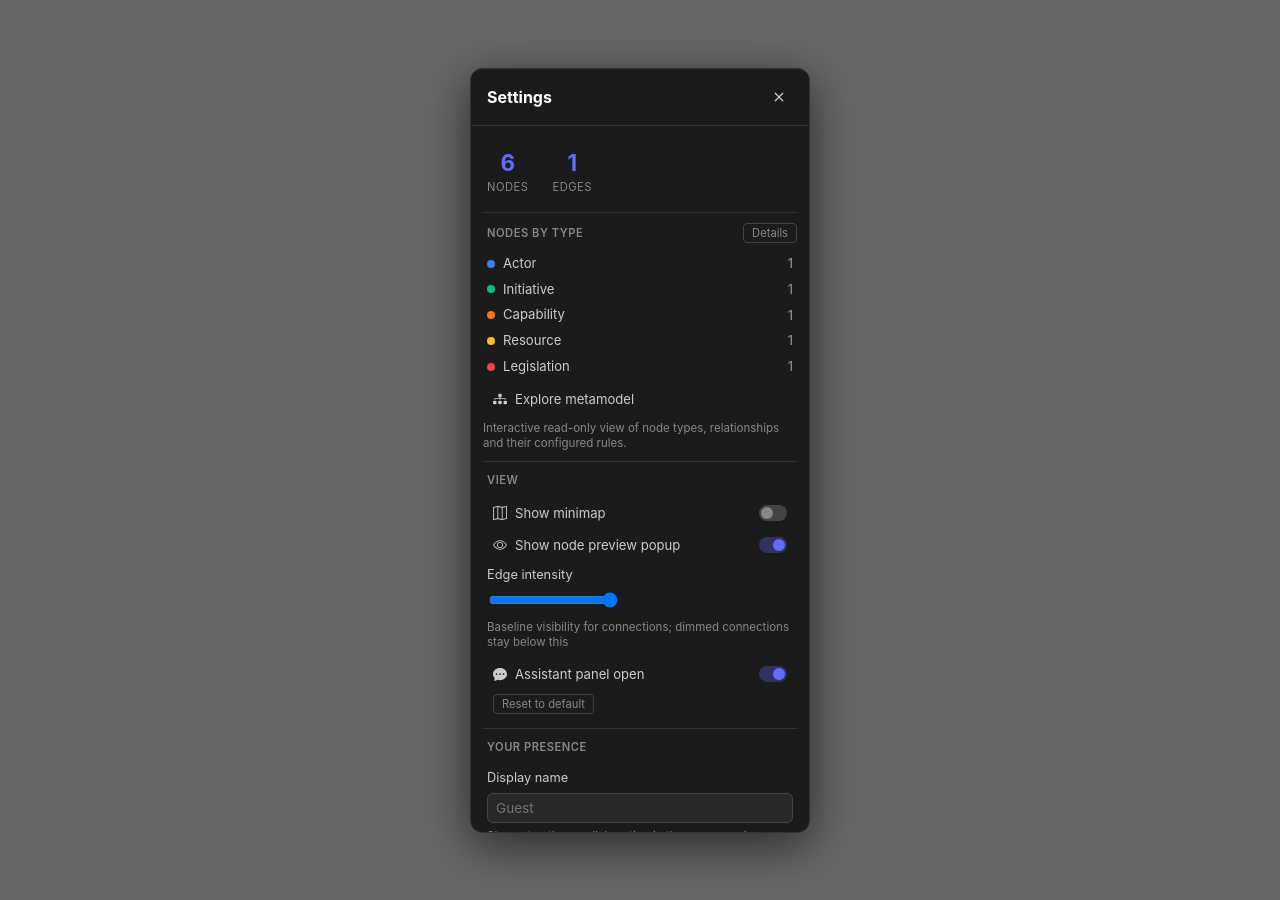
it: SettingsDialog › shows relationship applicability rules in the metamodel details dialog
This screenshot has width=1280, height=900.
What coordinates should you click on to do the following:
click the button "Details"
I would click on:
 (770, 233)
Its box is [743,223,797,243].
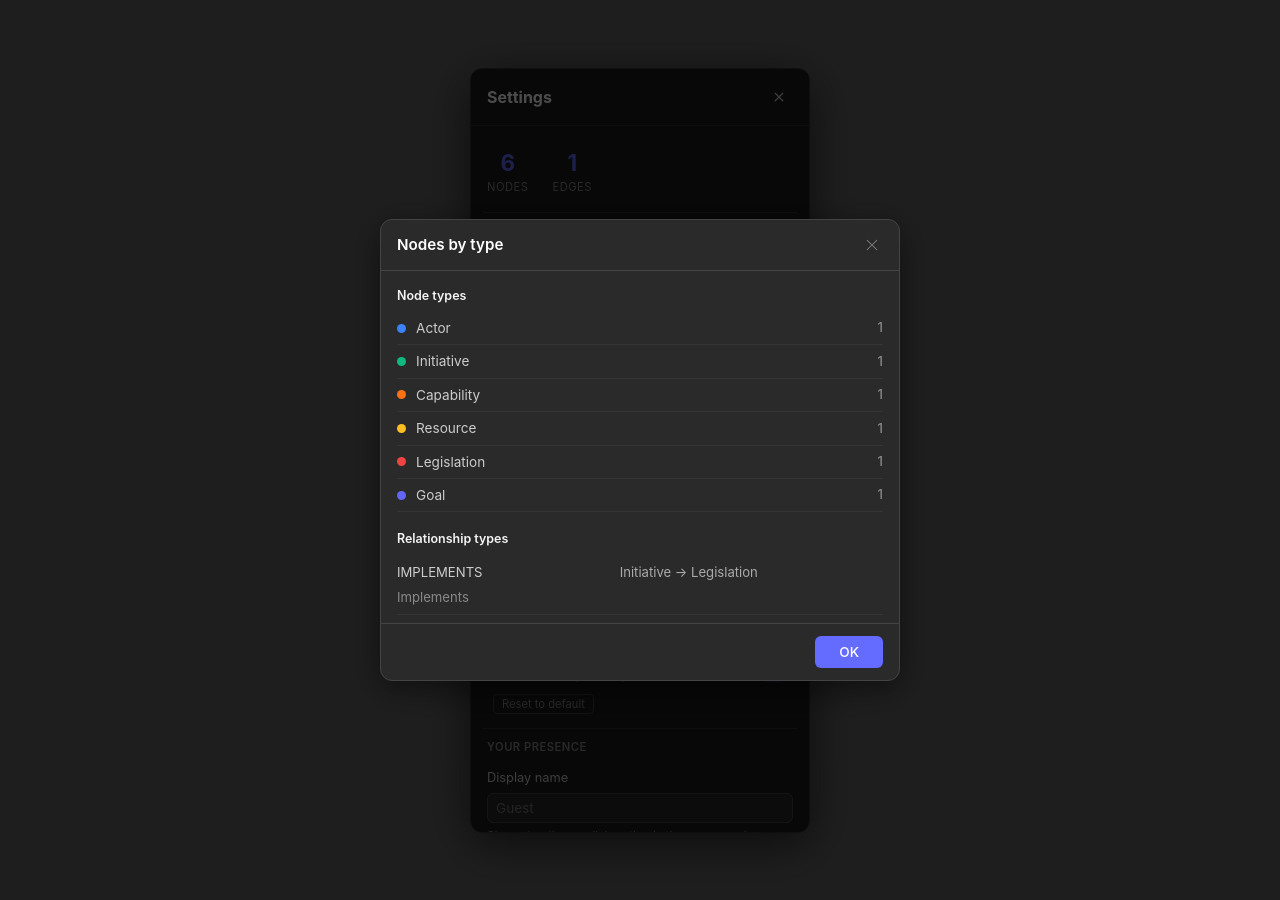
Check: the text "Relationship types" is shown, box [397,531,508,546]
Check: the text "IMPLEMENTS" is shown, box [397,564,482,580]
Check: the text "Initiative -> Legislation" is shown, box [620,564,758,580]
